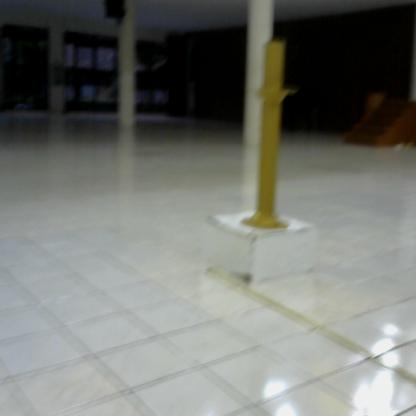pole: (235, 35, 303, 239)
